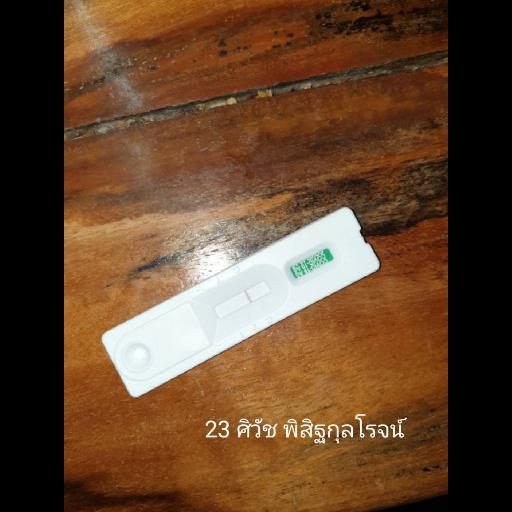Neg: (98, 205, 382, 399)
